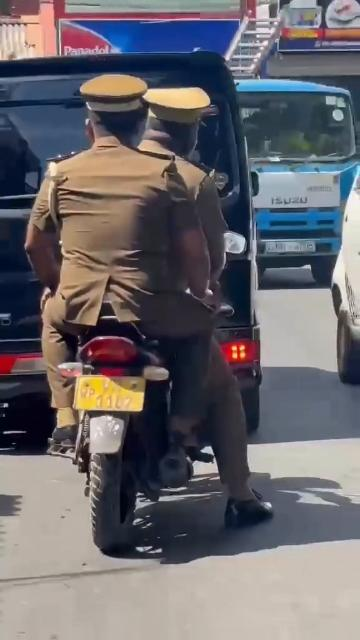no helmet: (85, 77, 156, 163), (160, 74, 205, 171)
number plate: (66, 372, 152, 421)
